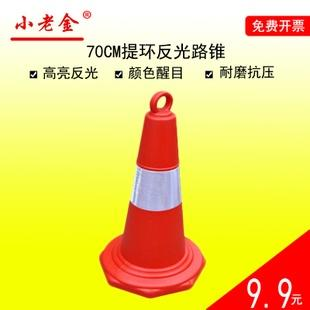cone_barrel: (103, 89, 203, 288)
